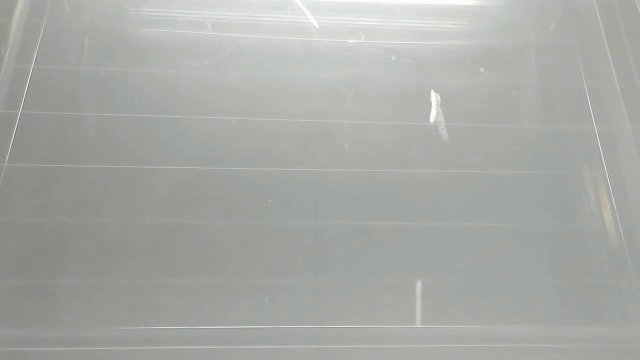alpha: (425, 84, 452, 143), (411, 277, 431, 330), (290, 1, 322, 32)
